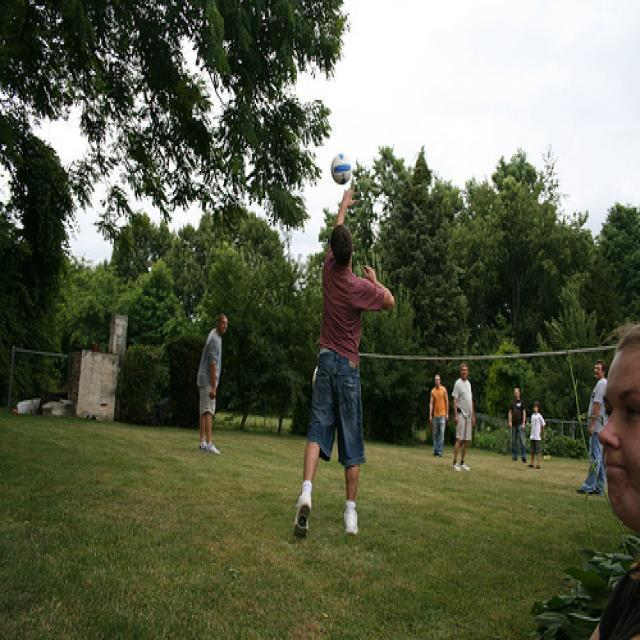volleyball: (331, 153, 352, 184)
